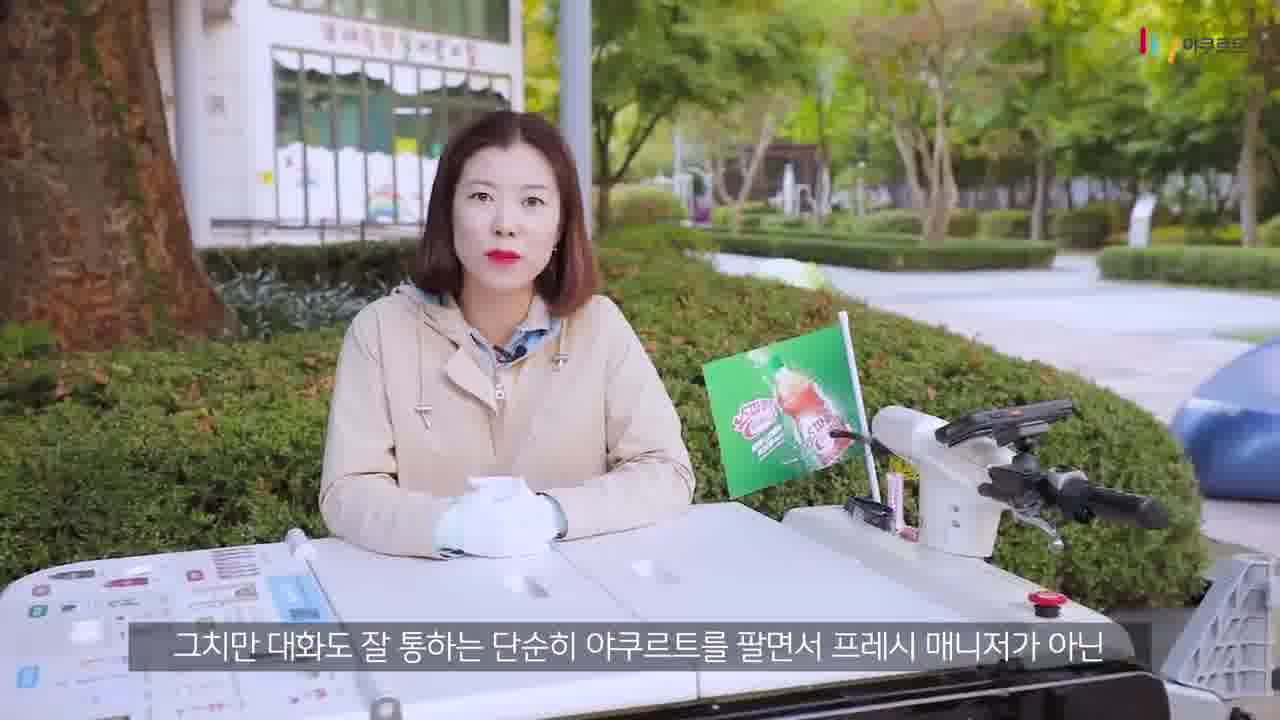Yakurut: (308, 101, 715, 572)
